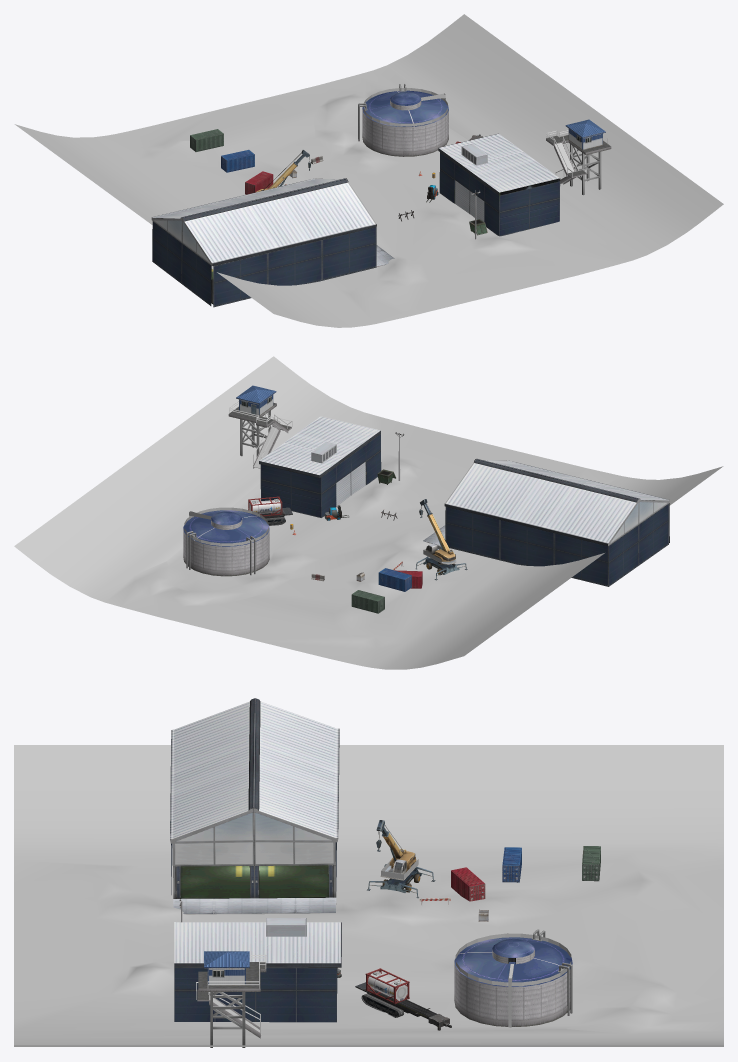
The model's file is Map_Portrait02.fbx.
3 views of the same model, one above another, from view 1: azimuth 30°, elevation 25°; view 2: azimuth 150°, elevation 25°; view 3: azimuth 270°, elevation 25° (orthographic). The views are drawn at different scales.
Parts seen in each view (by area): view 1: Terrain_MP2_1, House01_MP2_1, House02_MP2_1, House01_MP2_2, polySurface28, pasted__polySurface68, Model1:Model:group1polySurface3, polySurface45, BlueContainer_MP2_4, GreenContainer_MP2_4, polySurface47; view 2: Terrain_MP2_1, House01_MP2_1, House02_MP2_1, polySurface28, pasted__polySurface68, Crane_MP2, Model1:Model:group1polySurface3, polySurface45, polySurface47, GreenContainer_MP2_4, BlueContainer_MP2_4, FuelTank_MP2_2; view 3: Terrain_MP2_1, House01_MP2_1, House02_MP2_1, polySurface28, pasted__polySurface68, Crane_MP2, ContainerCarry_MP2_1, polySurface45, FuelTank_MP2_2, RedContainer_MP2_2, BlueContainer_MP2_4, polySurface47 (+1 smaller).
Part boxes in pixels (x1,y1,x2,y2): Terrain_MP2_1: [14, 14, 723, 327]; House01_MP2_1: [151, 178, 394, 305]; House02_MP2_1: [438, 133, 560, 236]; House01_MP2_2: [213, 227, 376, 307]; polySurface28: [358, 84, 448, 156]; pasted__polySurface68: [546, 119, 611, 195]; Model1:Model:group1polySurface3: [455, 180, 484, 221]; polySurface45: [363, 88, 447, 126]; BlueContainer_MP2_4: [221, 149, 254, 172]; GreenContainer_MP2_4: [190, 129, 223, 151]; polySurface47: [546, 130, 607, 183]; Terrain_MP2_1: [14, 356, 723, 669]; House01_MP2_1: [423, 459, 669, 586]; House02_MP2_1: [259, 416, 381, 517]; polySurface28: [183, 510, 269, 576]; pasted__polySurface68: [228, 385, 291, 468]; Crane_MP2: [415, 499, 467, 580]; Model1:Model:group1polySurface3: [336, 462, 365, 506]; polySurface45: [184, 507, 268, 546]; polySurface47: [229, 401, 292, 468]; GreenContainer_MP2_4: [351, 590, 384, 613]; BlueContainer_MP2_4: [378, 568, 411, 591]; FuelTank_MP2_2: [248, 496, 282, 516]; Terrain_MP2_1: [14, 745, 723, 1046]; House01_MP2_1: [170, 698, 339, 914]; House02_MP2_1: [174, 918, 341, 1022]; polySurface28: [454, 929, 572, 1026]; pasted__polySurface68: [197, 951, 266, 1047]; Crane_MP2: [367, 820, 435, 898]; ContainerCarry_MP2_1: [355, 982, 451, 1030]; polySurface45: [455, 933, 571, 1027]; FuelTank_MP2_2: [365, 968, 409, 1004]; RedContainer_MP2_2: [451, 867, 485, 901]; BlueContainer_MP2_4: [502, 847, 521, 882]; polySurface47: [196, 954, 266, 1035].
Size of the model in its own units: 10038 by 1599 by 9948.
